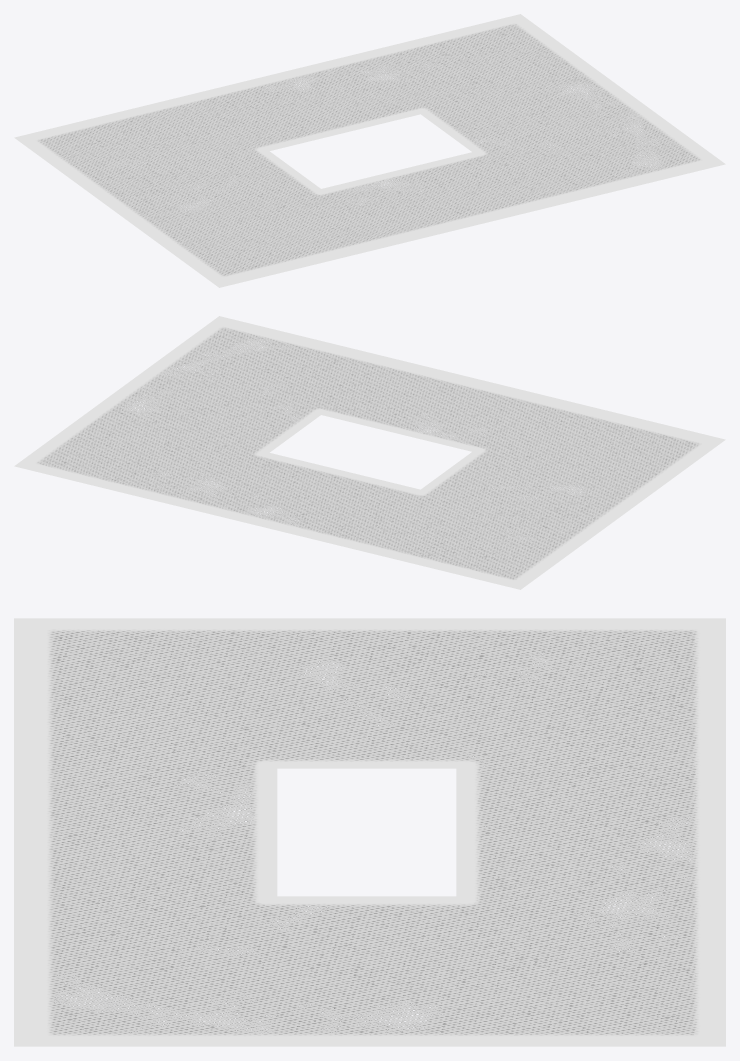
Rendered from surgery_paper_W_BS.fbx.
3 views of the same model, one above another, from view 1: azimuth 30°, elevation 25°; view 2: azimuth 150°, elevation 25°; view 3: azimuth 270°, elevation 25° (orthographic). The views are drawn at different scales.
Visible parts, largest first — view 1: surgery_paper_W_BS; view 2: surgery_paper_W_BS; view 3: surgery_paper_W_BS.
Boxes of the visible parts, left/top/right/bottom form: surgery_paper_W_BS: left=14, top=14, right=725, bottom=287; surgery_paper_W_BS: left=14, top=316, right=725, bottom=589; surgery_paper_W_BS: left=14, top=618, right=725, bottom=1046.
Bounding box in the file's own units: 524 × 3.05e-05 × 368.
1 material, 1 textured.
